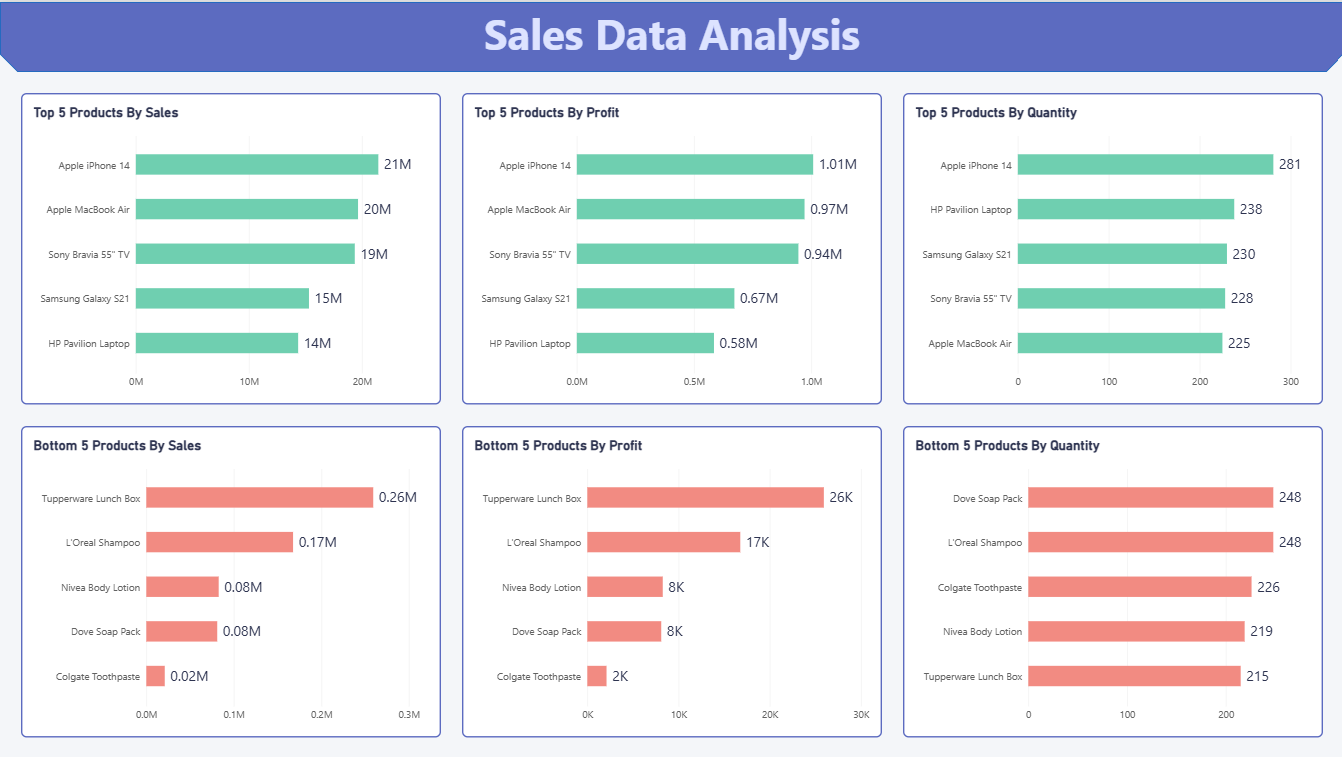

Layout of this report page (visuals, bound fields, positions):
{"tool":"powerbi","page":{"name":"Sales Overview","canvas":[1920,1080],"ordinal":0},"visuals":[{"type":"shape","box":[0,0,1920,100],"z":0},{"type":"barChart","title":"Top 5 Products By Sales","fields":{"Category":["Dim Product.Product Name"],"Y":["Sum(Fact_Table.Net_Sales)"]},"box":[30,130,600,445],"z":1000},{"type":"barChart","title":"Top 5 Products By Profit","fields":{"Category":["Dim Product.Product Name"],"Y":["Sum(Fact_Table.Profit)"]},"box":[660,130,600,445],"z":2000},{"type":"barChart","title":"Top 5 Products By Quantity","fields":{"Category":["Dim Product.Product Name"],"Y":["Sum(Fact_Table.Units Sold)"]},"box":[1290,130,600,445],"z":3000},{"type":"barChart","title":"Bottom 5 Products By Sales","fields":{"Category":["Dim Product.Product Name"],"Y":["Sum(Fact_Table.Net_Sales)"]},"box":[30,605,600,445],"z":4000},{"type":"barChart","title":"Bottom 5 Products By Profit","fields":{"Category":["Dim Product.Product Name"],"Y":["Sum(Fact_Table.Profit)"]},"box":[660,605,600,445],"z":5000},{"type":"barChart","title":"Bottom 5 Products By Quantity","fields":{"Category":["Dim Product.Product Name"],"Y":["Sum(Fact_Table.Units Sold)"]},"box":[1290,605,600,445],"z":6000}]}

Visuals, with their boxes in screenshot pixels (x1, y1, x2, y2), scaled from the page's 1920x1080 canvas onto the 1342x757 screenshot:
shape: {"left": 0, "top": 0, "right": 1341, "bottom": 70}
"Top 5 Products By Sales" barChart: {"left": 21, "top": 91, "right": 440, "bottom": 403}
"Top 5 Products By Profit" barChart: {"left": 461, "top": 91, "right": 881, "bottom": 403}
"Top 5 Products By Quantity" barChart: {"left": 902, "top": 91, "right": 1321, "bottom": 403}
"Bottom 5 Products By Sales" barChart: {"left": 21, "top": 424, "right": 440, "bottom": 736}
"Bottom 5 Products By Profit" barChart: {"left": 461, "top": 424, "right": 881, "bottom": 736}
"Bottom 5 Products By Quantity" barChart: {"left": 902, "top": 424, "right": 1321, "bottom": 736}
